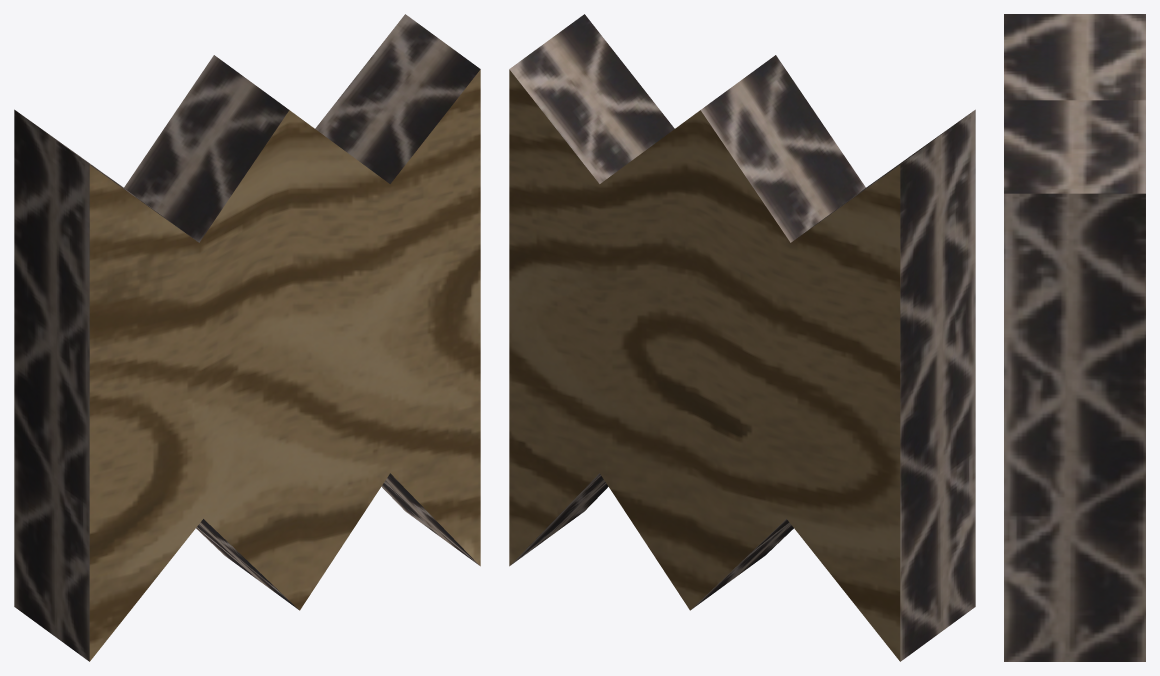
Rendered from G_Brückenparticle 1.fbx.
The picture shows the model from 3 angles, left to right: view 1: azimuth 30°, elevation 25°; view 2: azimuth 150°, elevation 25°; view 3: azimuth 270°, elevation 25°; orthographic projection. The views are drawn at different scales.
Parts seen in each view (by area): view 1: Breakingparticle; view 2: Breakingparticle; view 3: Breakingparticle.
Boxes of the visible parts, x1,y1,x2,y2 form: Breakingparticle: (14, 14, 480, 661); Breakingparticle: (509, 14, 975, 661); Breakingparticle: (1004, 14, 1145, 661).
Bounding box in the file's own units: 0.2615 × 0.3215 × 0.0873.
